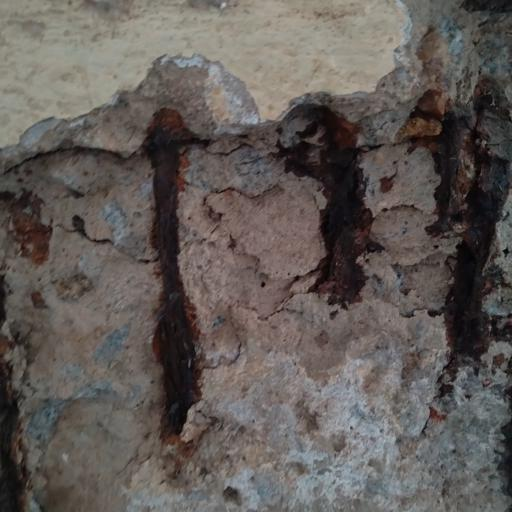spalling: (1, 84, 512, 512)
